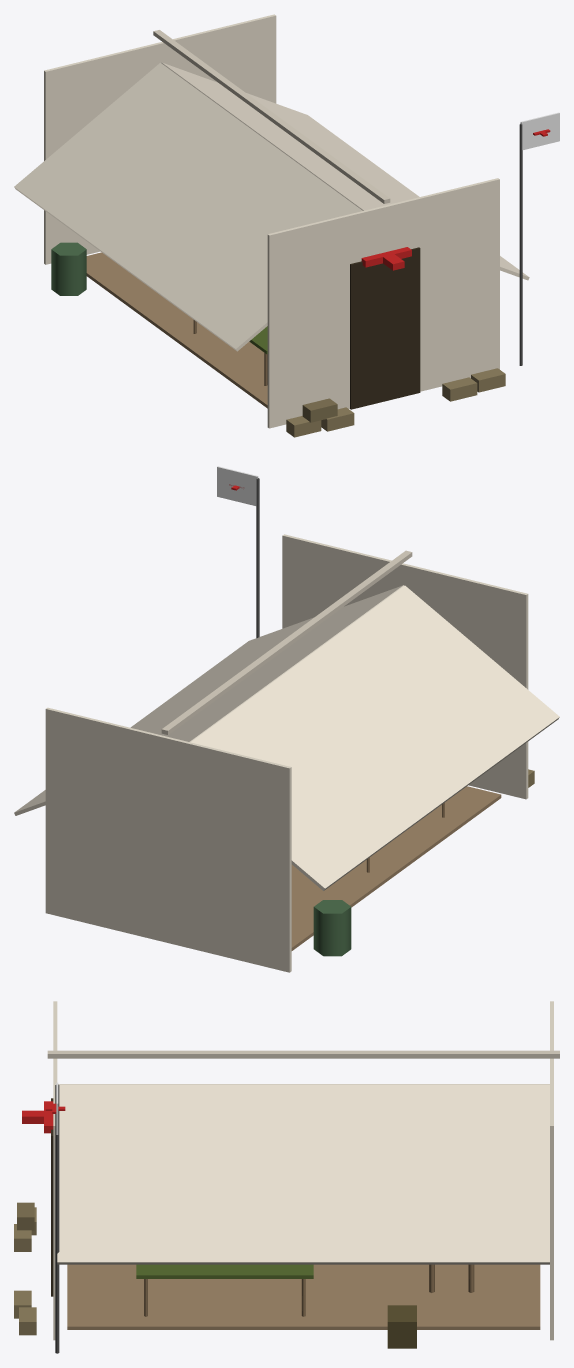
Rendered from aid-station.glb.
3 views of the same model, one above another, from view 1: azimuth 30°, elevation 25°; view 2: azimuth 150°, elevation 25°; view 3: azimuth 270°, elevation 25° (orthographic). The views are drawn at different scales.
Visible parts, largest first — view 1: Mesh_TentLeftSlope, Mesh_TentFront, Mesh_TentBack, Mesh_Entrance, Mesh_TentRightSlope, Mesh_Floor, Mesh_TentRidge, Mesh_WaterBarrel, Mesh_Flag, Mesh_FlagPole, Mesh_Sandbag4, Mesh_Sandbag5 (+3 smaller); view 2: Mesh_TentLeftSlope, Mesh_TentBack, Mesh_TentFront, Mesh_TentRightSlope, Mesh_Floor, Mesh_TentRidge, Mesh_WaterBarrel, Mesh_Flag, Mesh_FlagPole; view 3: Mesh_TentRightSlope, Mesh_Floor, Mesh_TentRidge, Mesh_Stretcher2Top, Mesh_TentBack, Mesh_GroundCrate, Mesh_FlagPole, Mesh_TentFront, Mesh_Sandbag3, Mesh_Sandbag5, Mesh_Entrance, Mesh_TentLeftSlope.
Part boxes in pixels (left/top/right/bottom): Mesh_TentLeftSlope: left=14, top=63, right=362, bottom=351; Mesh_TentFront: left=267, top=178, right=499, bottom=428; Mesh_TentBack: left=44, top=14, right=276, bottom=264; Mesh_Entrance: left=350, top=247, right=420, bottom=409; Mesh_TentRightSlope: left=161, top=62, right=529, bottom=280; Mesh_Floor: left=86, top=252, right=267, bottom=408; Mesh_TentRidge: left=153, top=30, right=390, bottom=203; Mesh_WaterBarrel: left=51, top=242, right=86, bottom=295; Mesh_Flag: left=520, top=112, right=559, bottom=150; Mesh_FlagPole: left=519, top=123, right=522, bottom=365; Mesh_Sandbag4: left=442, top=377, right=477, bottom=401; Mesh_Sandbag5: left=302, top=398, right=337, bottom=422; Mesh_TentLeftSlope: left=190, top=585, right=559, bottom=890; Mesh_TentBack: left=45, top=707, right=291, bottom=972; Mesh_TentFront: left=282, top=534, right=528, bottom=799; Mesh_TentRightSlope: left=14, top=585, right=403, bottom=815; Mesh_Floor: left=291, top=786, right=501, bottom=950; Mesh_TentRidge: left=161, top=550, right=412, bottom=734; Mesh_WaterBarrel: left=313, top=900, right=351, bottom=956; Mesh_Flag: left=217, top=466, right=258, bottom=506; Mesh_FlagPole: left=256, top=478, right=259, bottom=638; Mesh_TentRightSlope: left=57, top=1084, right=549, bottom=1264; Mesh_Floor: left=67, top=1264, right=540, bottom=1329; Mesh_TentRidge: left=47, top=1050, right=559, bottom=1058; Mesh_Stretcher2Top: left=136, top=1264, right=313, bottom=1278; Mesh_TentBack: left=550, top=1001, right=553, bottom=1340; Mesh_GroundCrate: left=387, top=1305, right=416, bottom=1348; Mesh_FlagPole: left=55, top=1084, right=59, bottom=1353; Mesh_TentFront: left=53, top=1001, right=57, bottom=1340; Mesh_Sandbag3: left=19, top=1307, right=36, bottom=1335; Mesh_Sandbag5: left=17, top=1202, right=34, bottom=1230; Mesh_Entrance: left=51, top=1098, right=53, bottom=1296; Mesh_TentLeftSlope: left=58, top=1084, right=549, bottom=1084.
Bounding box in the file's own units: 4.21 × 3.03 × 5.54.
